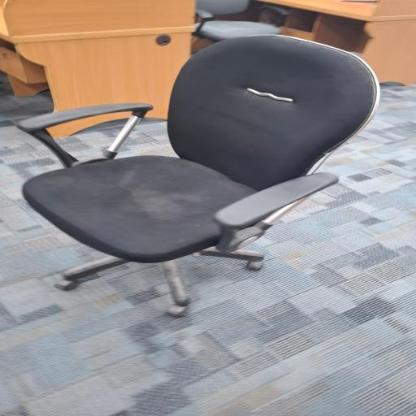chair: (10, 30, 387, 317)
